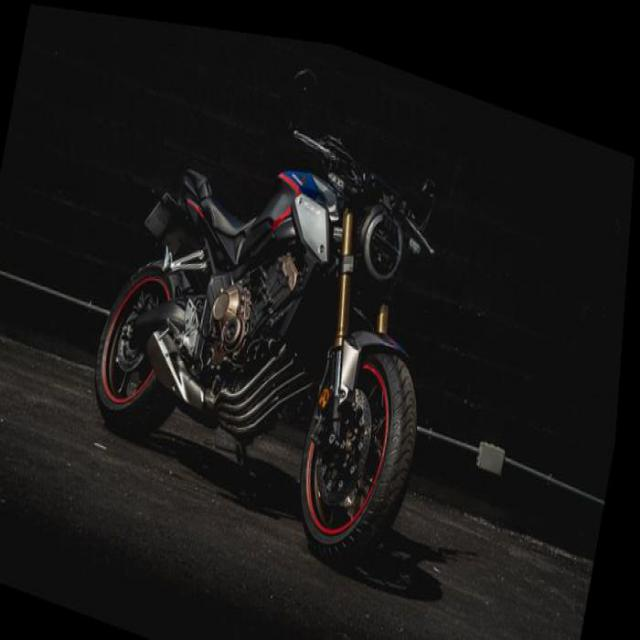CB650R: (76, 90, 465, 592)
